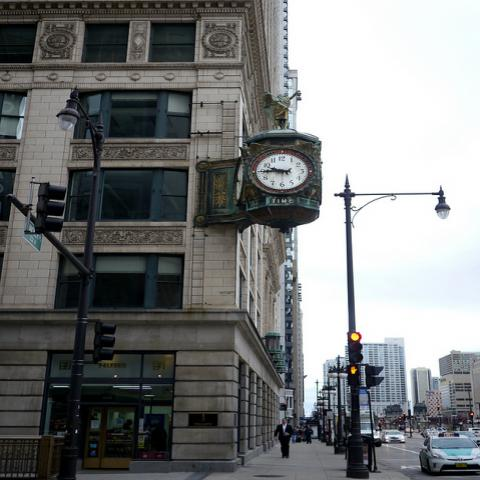car: (418, 432, 479, 478), (455, 429, 479, 445), (382, 430, 405, 443), (421, 428, 442, 438), (361, 421, 372, 434), (465, 427, 479, 437), (436, 427, 446, 433), (406, 426, 413, 432)
